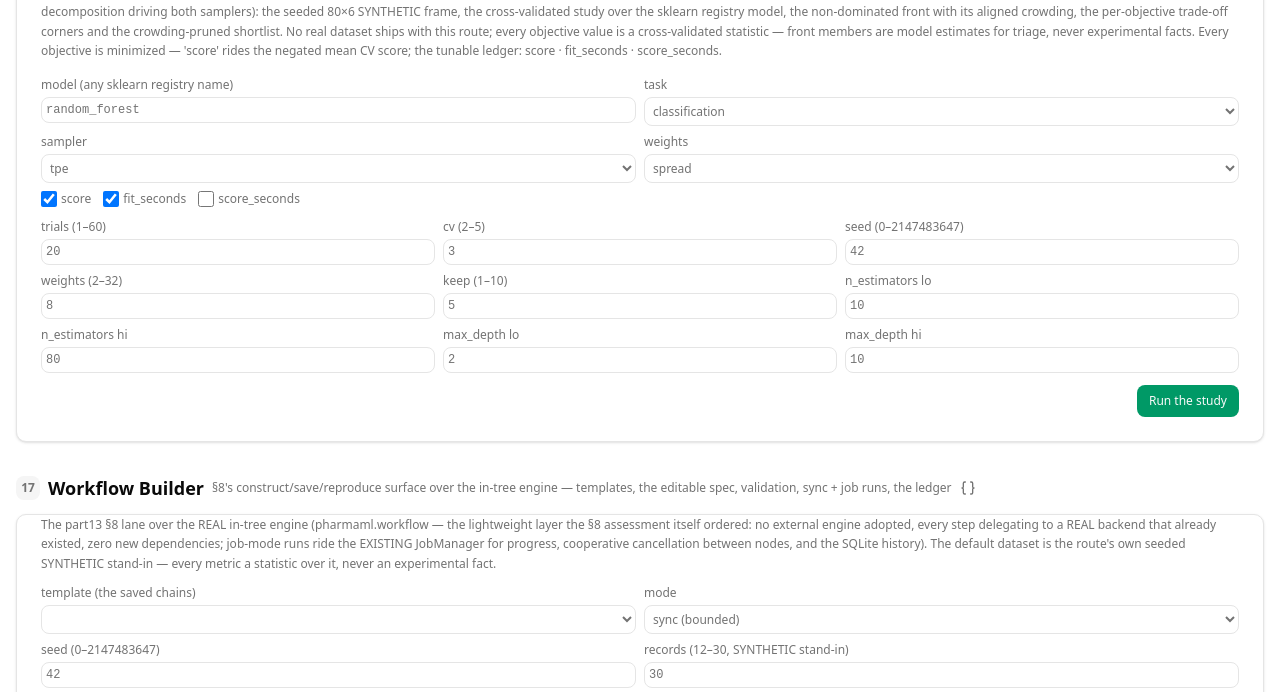
Test: the multi-objective optimization lane of the Machine Learning workspace › surfaces the backend's own hard 422 verbatim through the banner
(page scrolled)
Click the button "Run the study" at point(1188, 401), box x1=1137 y1=385 x2=1239 y2=417
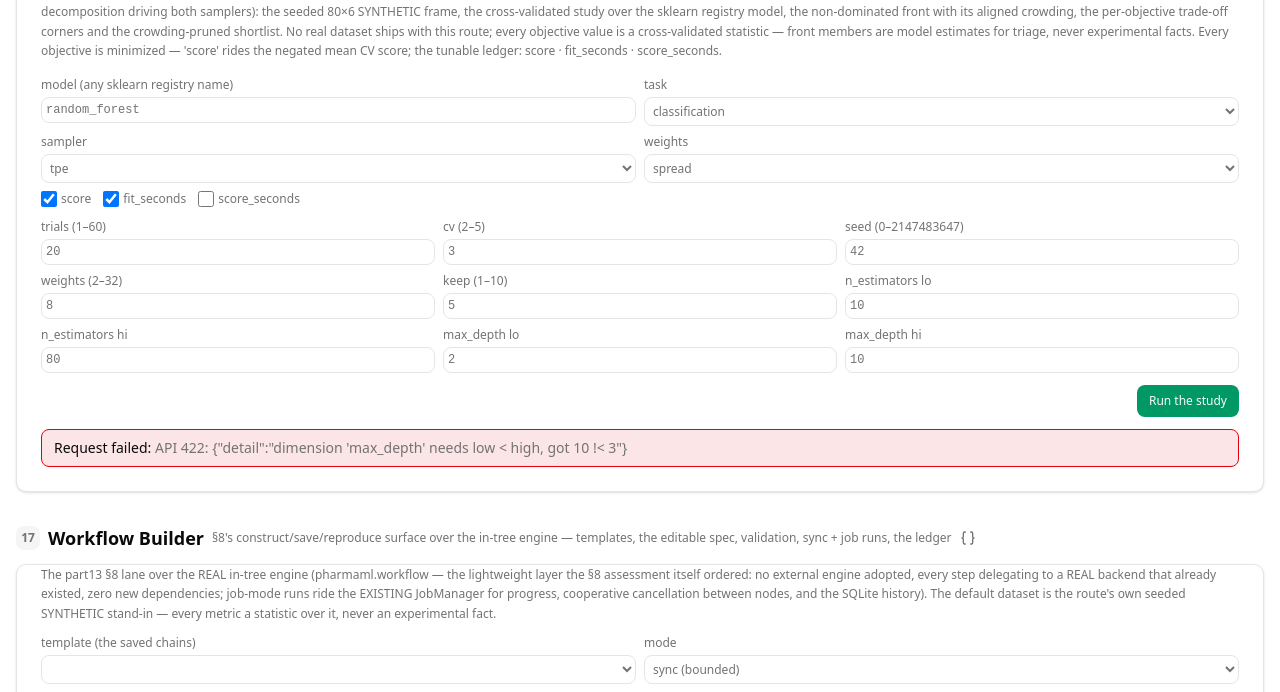
Expected: the text "dimension 'max_depth' needs low < high" is shown, x1=155 y1=438 x2=627 y2=457
